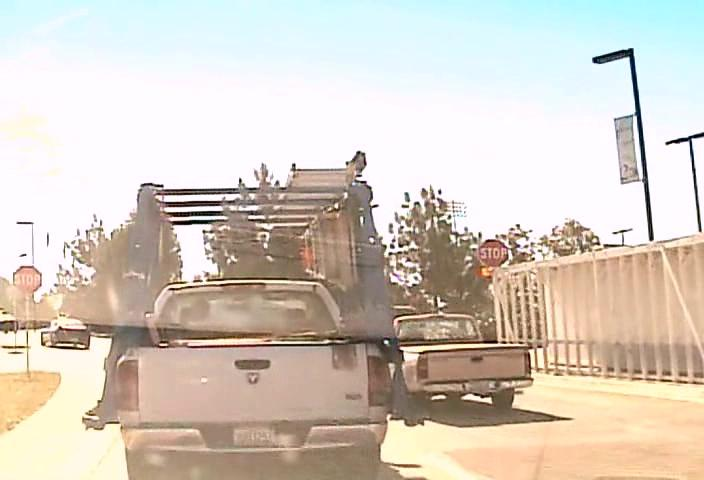stop: (478, 238, 509, 268)
